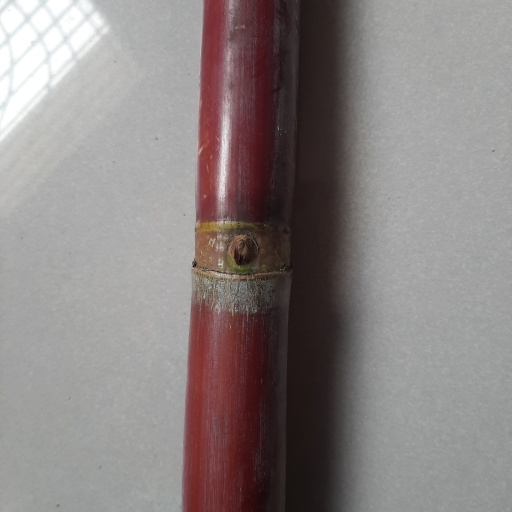Bud: (232, 233, 258, 266)
